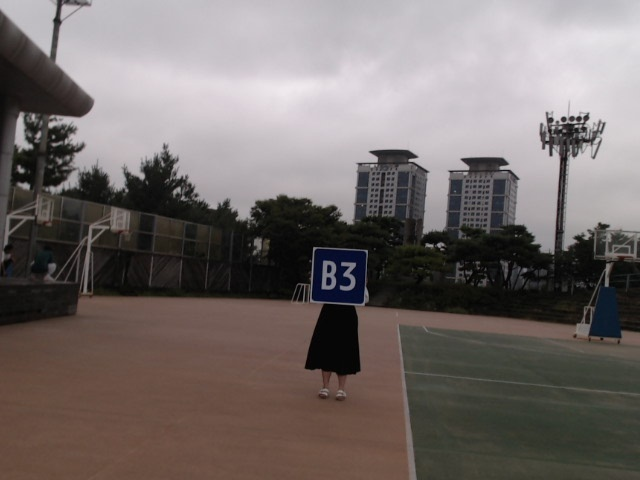delivery_b3: (312, 246, 368, 304)
